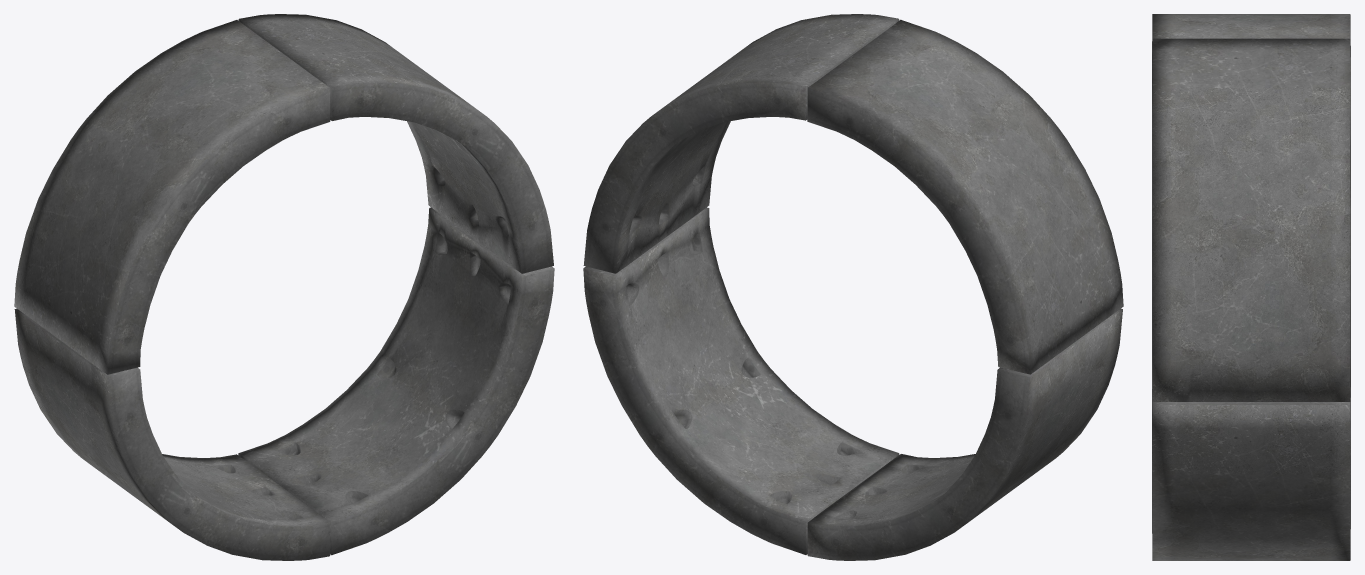
3 views of the same model, side by side, from view 1: azimuth 30°, elevation 25°; view 2: azimuth 150°, elevation 25°; view 3: azimuth 270°, elevation 25° (orthographic). The views are drawn at different scales.
Visible parts, largest first — view 1: ConcreteTunnel02, ConcreteTunnel04, ConcreteTunnel03, ConcreteTunnel01; view 2: ConcreteTunnel02, ConcreteTunnel04, ConcreteTunnel03, ConcreteTunnel01; view 3: ConcreteTunnel01, ConcreteTunnel04, ConcreteTunnel02.
Part boxes in pixels (box(x1,y1,x2,y2)): ConcreteTunnel02: box(14, 20, 330, 374); ConcreteTunnel04: box(238, 207, 554, 555); ConcreteTunnel03: box(14, 308, 330, 560); ConcreteTunnel01: box(238, 14, 553, 273); ConcreteTunnel02: box(807, 19, 1123, 374); ConcreteTunnel04: box(583, 207, 899, 554); ConcreteTunnel03: box(807, 308, 1122, 560); ConcreteTunnel01: box(583, 14, 899, 273); ConcreteTunnel01: box(1152, 38, 1350, 401); ConcreteTunnel04: box(1152, 388, 1350, 560); ConcreteTunnel02: box(1152, 14, 1350, 56).
Bounding box in the file's own units: 423 × 424 × 153.
Materials: 1 (1 with a texture image).
